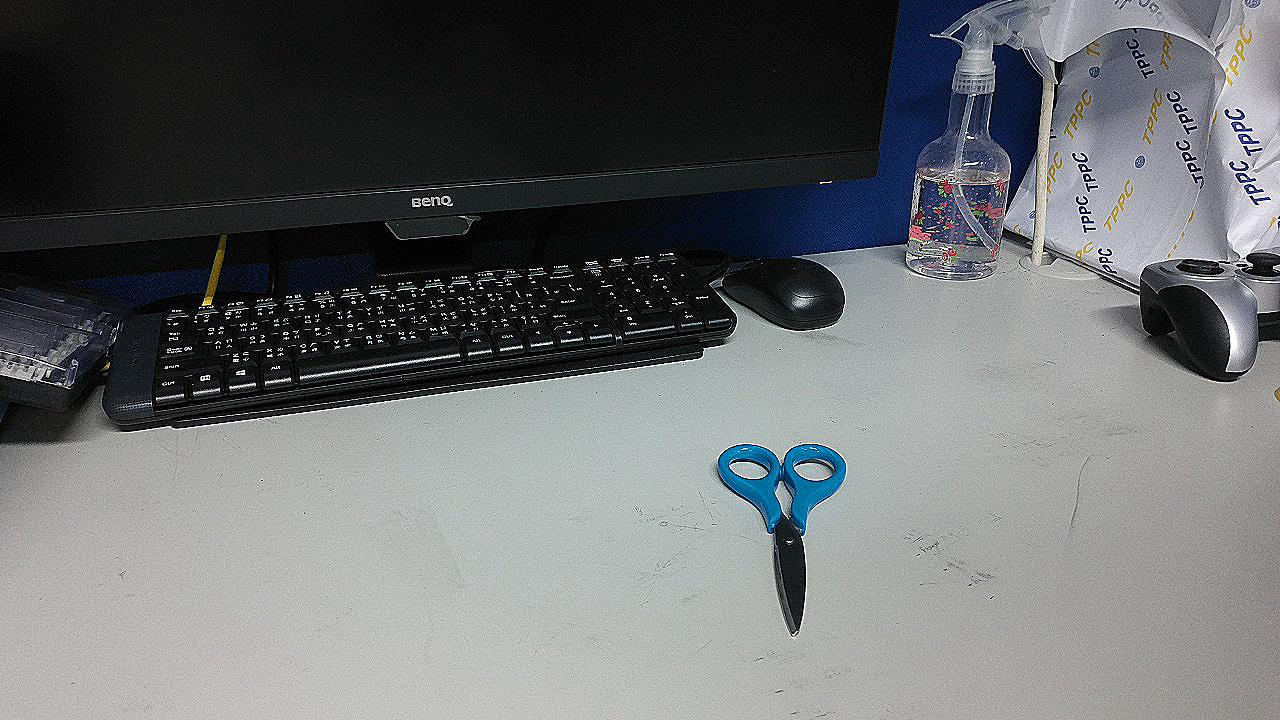columnar: (747, 201, 851, 435)
